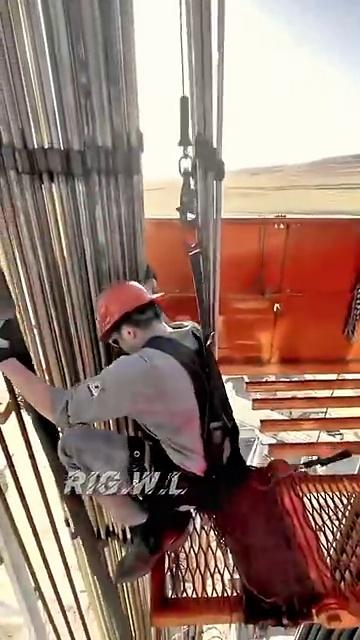gloves: (0, 305, 58, 387)
helmet: (98, 260, 175, 330)
shoes: (123, 490, 187, 607)
worker: (0, 233, 256, 621)
